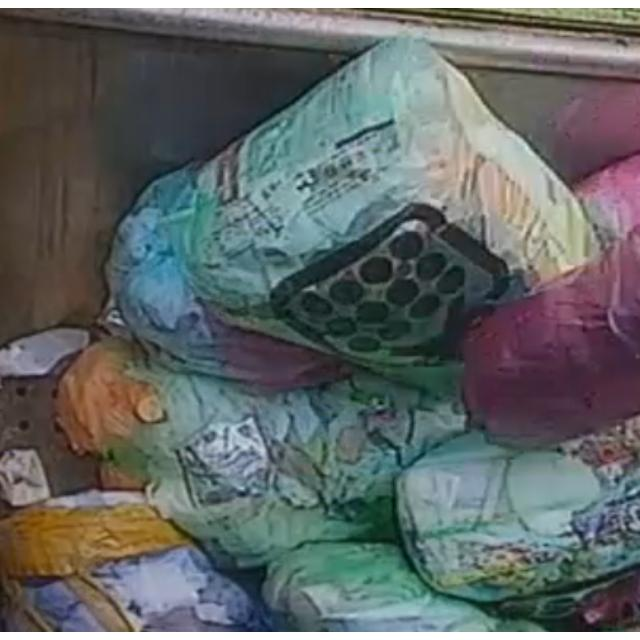general_trashbag: (192, 39, 595, 390), (59, 340, 464, 567), (398, 419, 640, 620)
other_trashbag: (465, 154, 640, 446)
